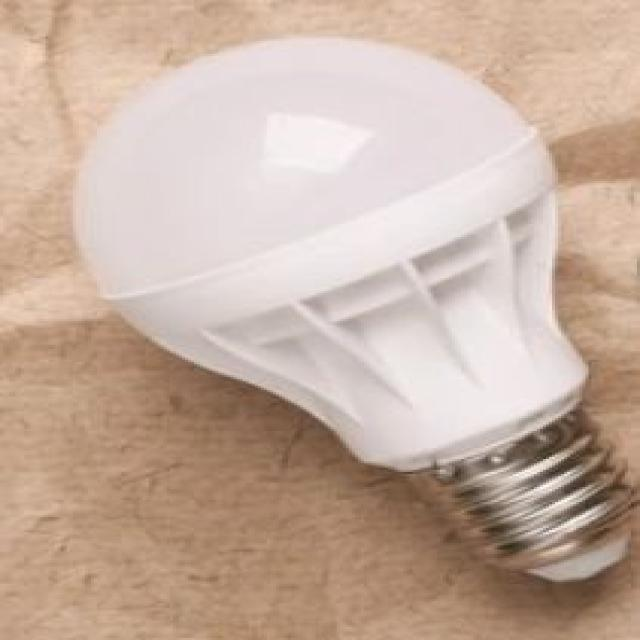electronic: (70, 32, 637, 584)
